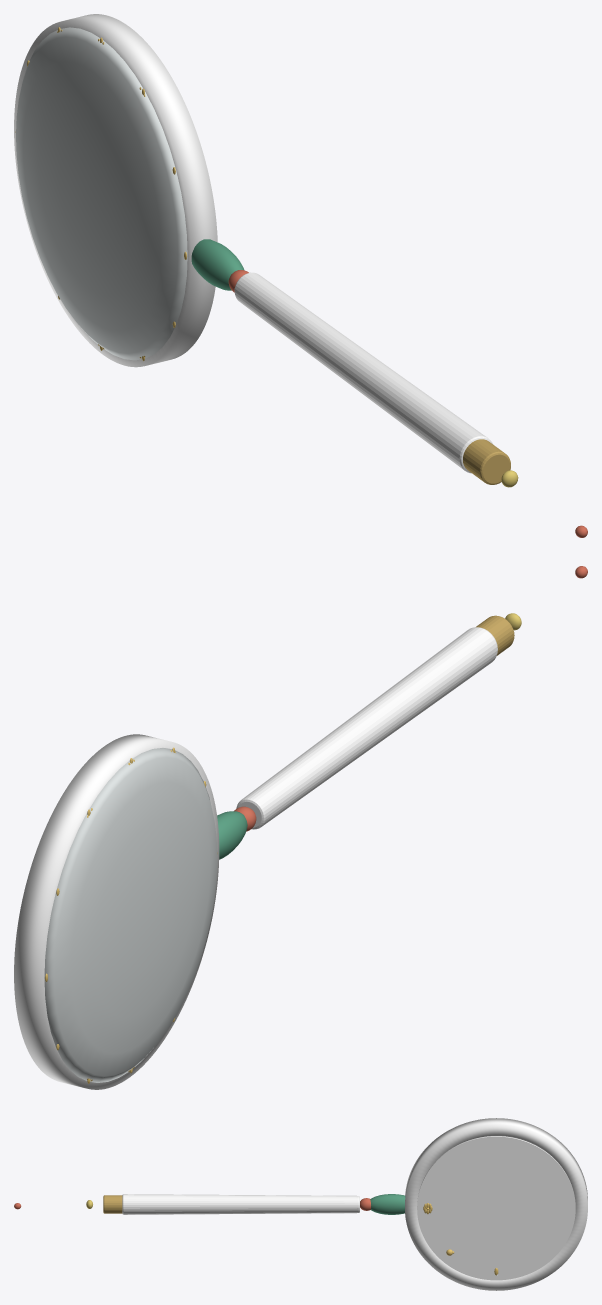
File: dpm_xizi_handmirror_structured.glb
The picture shows the model from 3 angles, top to bottom: view 1: azimuth 30°, elevation 25°; view 2: azimuth 150°, elevation 25°; view 3: azimuth 270°, elevation 25°; orthographic projection. The views are drawn at different scales.
Parts seen in each view (by area): view 1: 02_玻璃镜面_MirrorGlass, 04_蓝珐琅镜圈_EnamelRim, 07_蓝珐琅柄_EnamelHandle, 05_染牙连接器_IvoryNeck, 08_铜镀金箍_Ferrule; view 2: 02_玻璃镜面_MirrorGlass, 04_蓝珐琅镜圈_EnamelRim, 07_蓝珐琅柄_EnamelHandle, 05_染牙连接器_IvoryNeck, 08_铜镀金箍_Ferrule; view 3: 03_镜背底板_蓝珐琅地, 04_蓝珐琅镜圈_EnamelRim, 07_蓝珐琅柄_EnamelHandle, 05_染牙连接器_IvoryNeck, 08_铜镀金箍_Ferrule.
Boxes of the visible parts, bbox=[...] form: 02_玻璃镜面_MirrorGlass: bbox=[16, 27, 187, 360]; 04_蓝珐琅镜圈_EnamelRim: bbox=[14, 14, 217, 367]; 07_蓝珐琅柄_EnamelHandle: bbox=[234, 272, 492, 473]; 05_染牙连接器_IvoryNeck: bbox=[191, 239, 244, 290]; 08_铜镀金箍_Ferrule: bbox=[463, 439, 510, 484]; 02_玻璃镜面_MirrorGlass: bbox=[44, 748, 217, 1082]; 04_蓝珐琅镜圈_EnamelRim: bbox=[14, 734, 219, 1089]; 07_蓝珐琅柄_EnamelHandle: bbox=[236, 627, 497, 829]; 05_染牙连接器_IvoryNeck: bbox=[217, 811, 247, 859]; 08_铜镀金箍_Ferrule: bbox=[476, 615, 514, 655]; 03_镜背底板_蓝珐琅地: bbox=[417, 1136, 575, 1280]; 04_蓝珐琅镜圈_EnamelRim: bbox=[405, 1118, 587, 1290]; 07_蓝珐琅柄_EnamelHandle: bbox=[122, 1194, 359, 1214]; 05_染牙连接器_IvoryNeck: bbox=[370, 1194, 405, 1214]; 08_铜镀金箍_Ferrule: bbox=[103, 1195, 122, 1213].
Bounding box in the file's own units: 0.0217 × 0.127 × 0.398.
